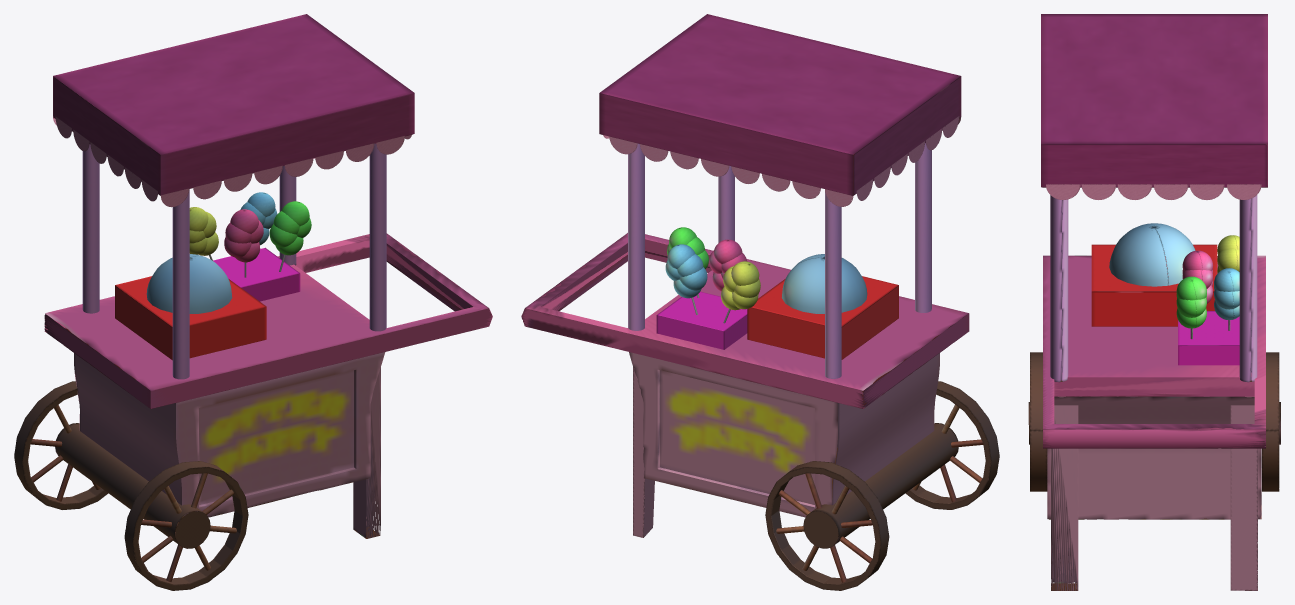
File: confettimachinelow.fbx
3 views of the same model, side by side, from view 1: azimuth 30°, elevation 25°; view 2: azimuth 150°, elevation 25°; view 3: azimuth 270°, elevation 25° (orthographic). The views are drawn at different scales.
Parts seen in each view (by area): view 1: CottonCandyMachine; view 2: CottonCandyMachine; view 3: CottonCandyMachine.
Part boxes in pixels (x1=…): CottonCandyMachine: x1=14, y1=14, x2=492, y2=590; CottonCandyMachine: x1=521, y1=14, x2=999, y2=590; CottonCandyMachine: x1=1028, y1=14, x2=1280, y2=590.
Bounding box in the file's own units: 778 × 891 × 442.
